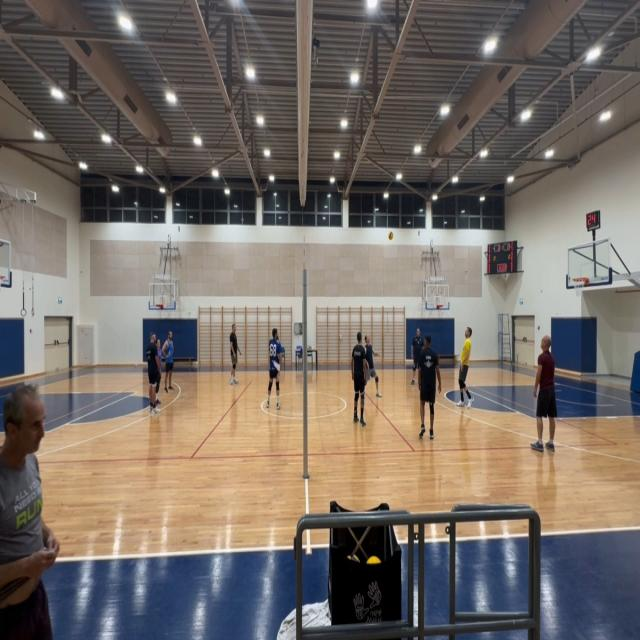volleyball: (388, 230, 394, 242)
